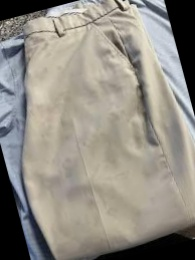oil: (106, 112, 151, 157)
